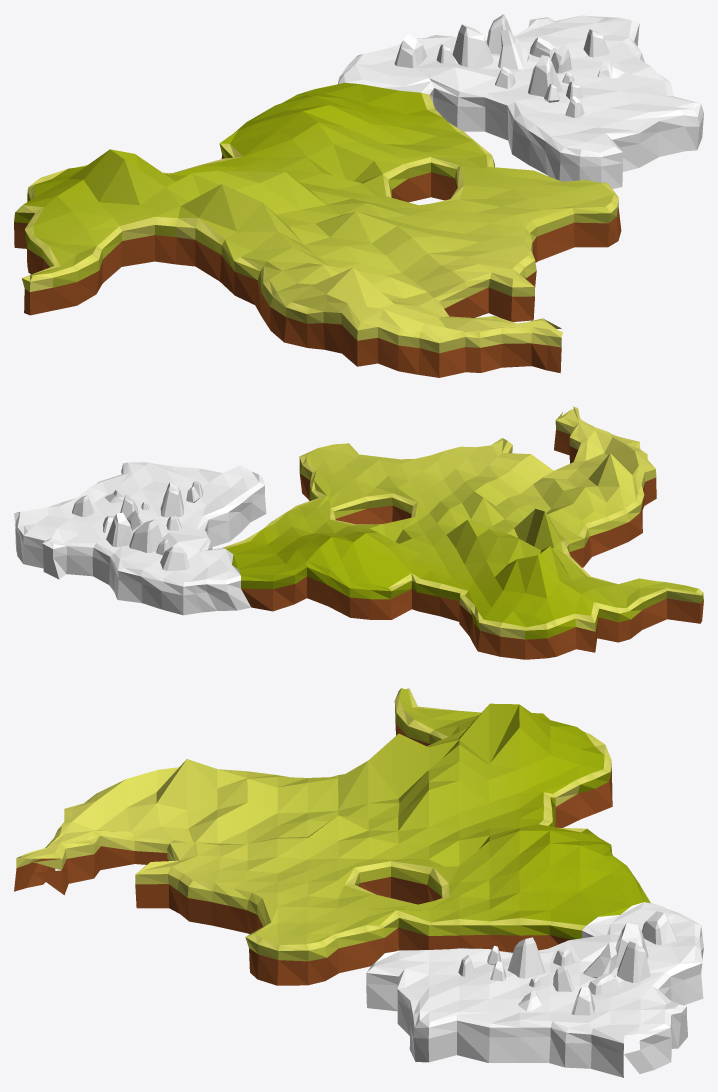
Rendered from northAmerica.glb.
3 renders of one model, top to bottom at view 1: azimuth 30°, elevation 25°; view 2: azimuth 150°, elevation 25°; view 3: azimuth 270°, elevation 25°, orthographic. The views are drawn at different scales.
Parts seen in each view (by area): view 1: Ground_2_World ap_0.003, Stone_18_World ap_0; view 2: Ground_2_World ap_0.003, Stone_18_World ap_0; view 3: Ground_2_World ap_0.003, Stone_18_World ap_0.
Part boxes in pixels (bbox=[...]): Ground_2_World ap_0.003: bbox=[14, 15, 703, 377]; Stone_18_World ap_0: bbox=[394, 14, 624, 117]; Ground_2_World ap_0.003: bbox=[14, 406, 703, 659]; Stone_18_World ap_0: bbox=[72, 481, 203, 570]; Ground_2_World ap_0.003: bbox=[14, 688, 703, 1077]; Stone_18_World ap_0: bbox=[458, 911, 676, 1015].
Size of the model in its own units: 7.75 by 0.9655 by 6.35.
1 material, 1 textured.
